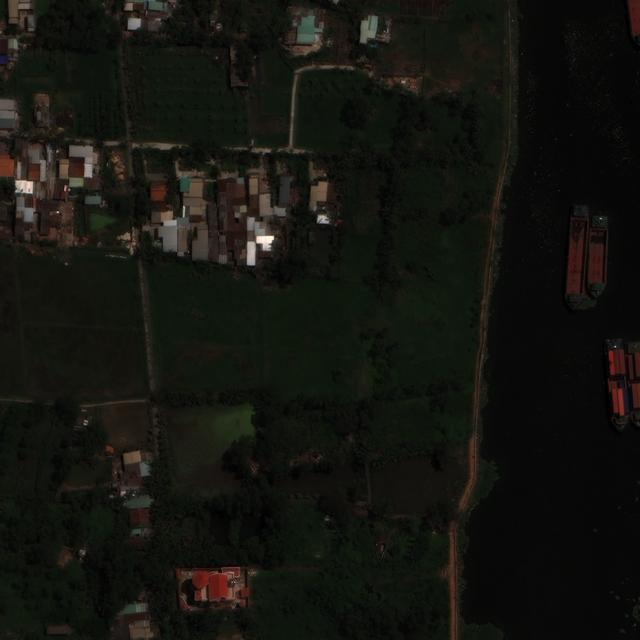Container Ship: (564, 205, 591, 312), (604, 339, 630, 434), (588, 214, 608, 299), (626, 343, 640, 427)
